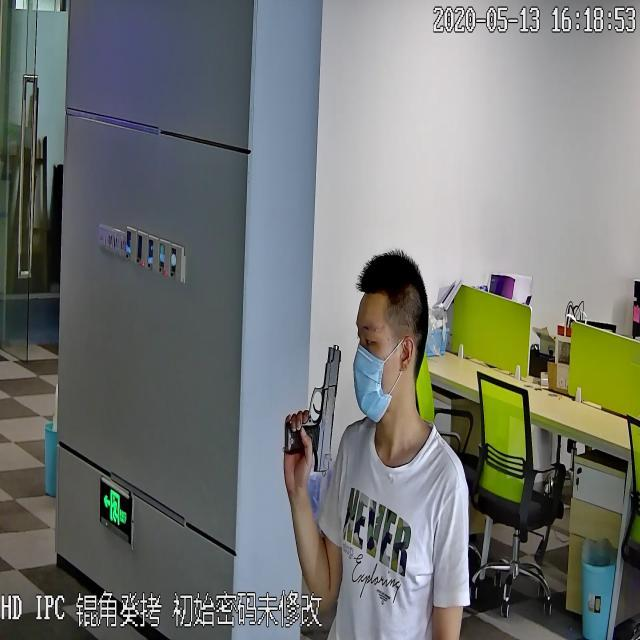gun: (278, 335, 344, 470)
